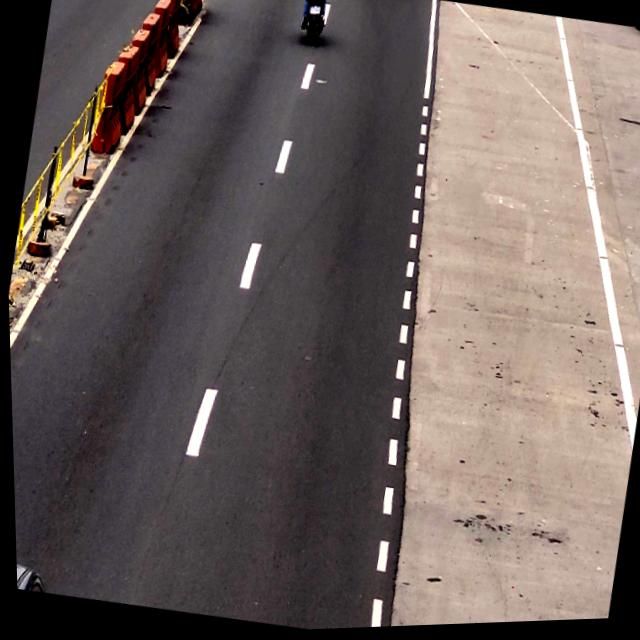License-Plate: (309, 5, 322, 19)
Motorcycle: (292, 0, 332, 47)
